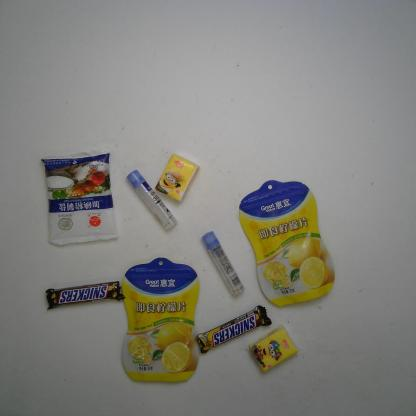Chocolate: (196, 305, 272, 355), (44, 280, 124, 312)
Dried Fruit: (238, 179, 335, 306), (121, 257, 200, 383)
Seasoner: (40, 148, 118, 244)
Stationery: (126, 168, 176, 232), (201, 230, 245, 297)
Tissue: (248, 327, 300, 374), (156, 152, 199, 202)
